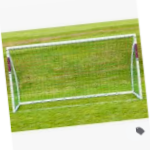goals: (3, 32, 147, 110)
